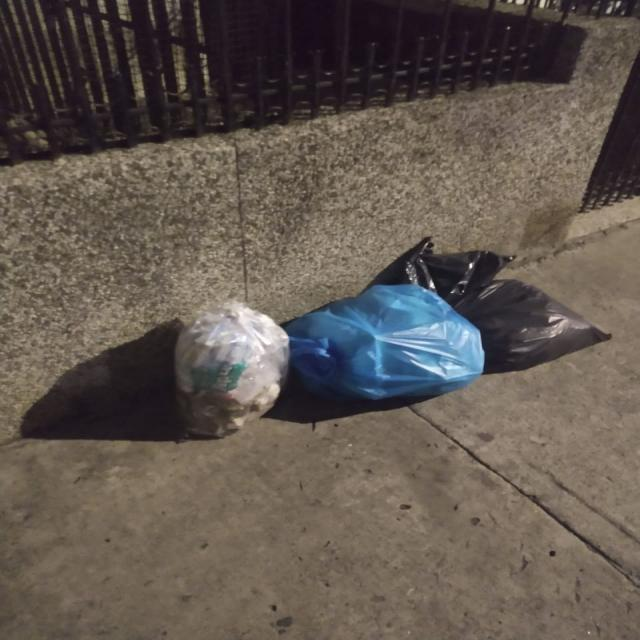Trashbag: (395, 231, 615, 378)
